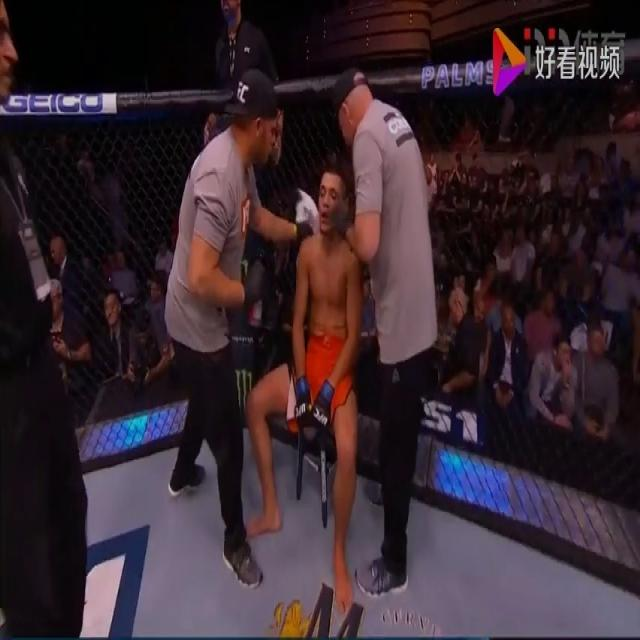non-fight: (163, 70, 315, 588), (327, 65, 439, 600), (245, 167, 366, 612)
